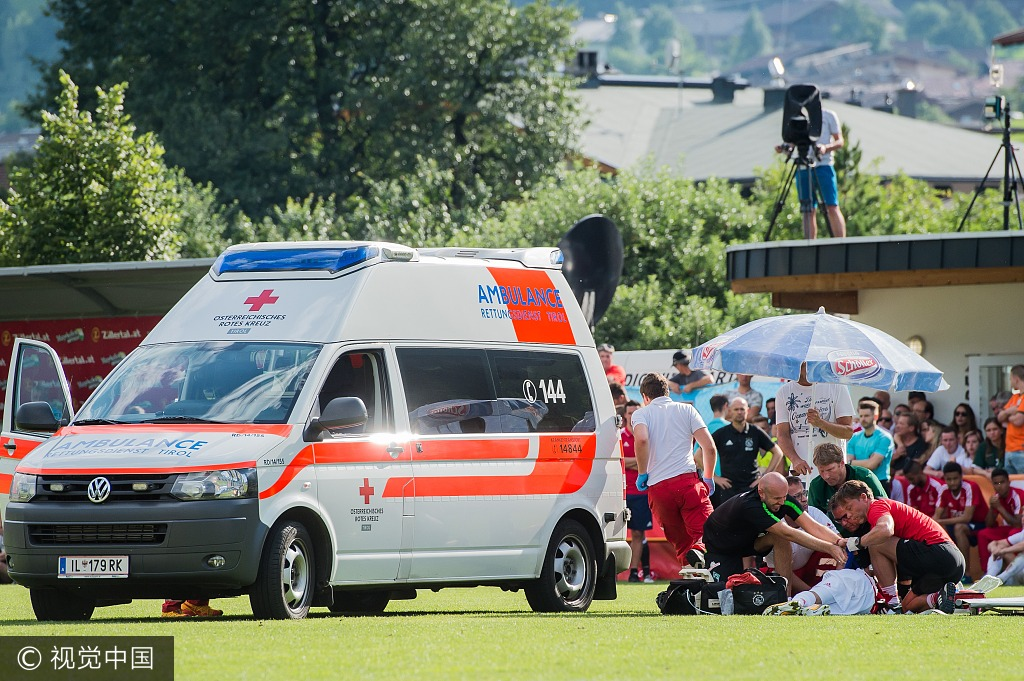10+: (563, 85, 1024, 615)
down: (753, 566, 884, 619)
